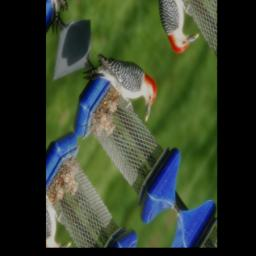Woodpecker: (76, 18, 165, 154)
